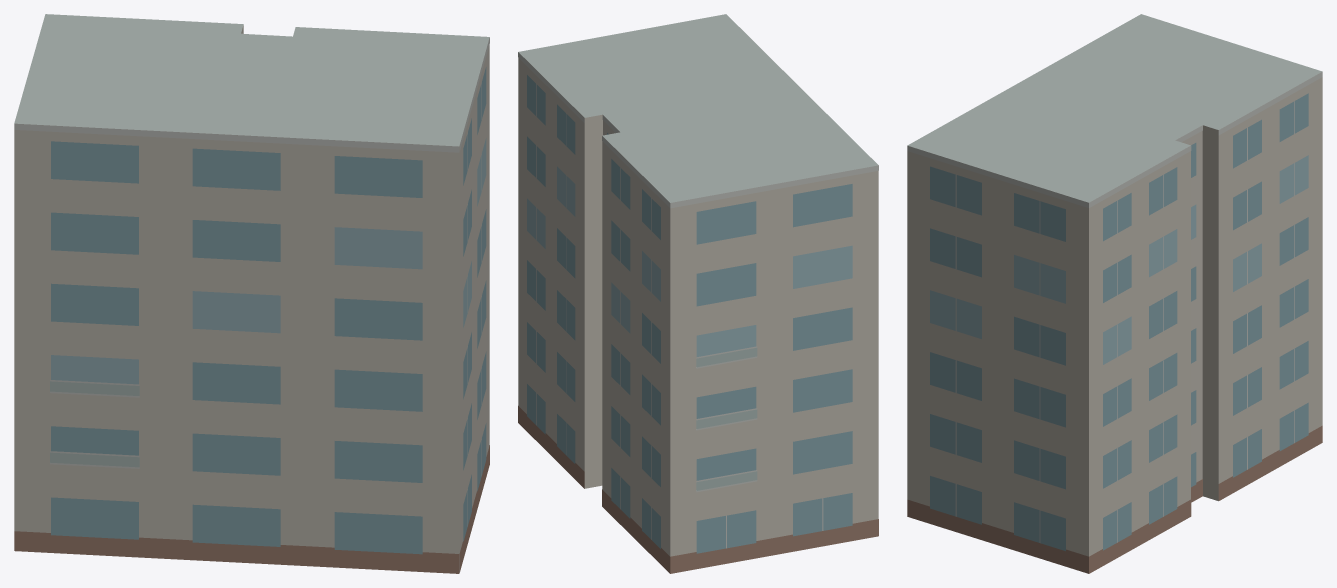
The model's file is survey-upis-32629410.glb.
3 views of the same model, side by side, from view 1: azimuth 30°, elevation 25°; view 2: azimuth 150°, elevation 25°; view 3: azimuth 270°, elevation 25° (orthographic). The views are drawn at different scales.
Visible parts, largest first — view 1: survey-upis-32629410.tmp; view 2: survey-upis-32629410.tmp; view 3: survey-upis-32629410.tmp.
Boxes of the visible parts, x1,y1,x2,y2 form: survey-upis-32629410.tmp: [14, 14, 489, 573]; survey-upis-32629410.tmp: [518, 14, 878, 573]; survey-upis-32629410.tmp: [907, 14, 1322, 573].
Size of the model in its own units: 18.23 by 16.7 by 16.95.
